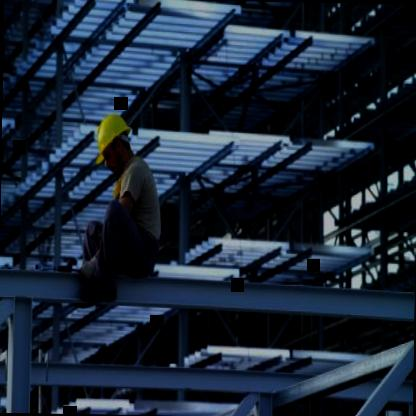helmet: (89, 106, 134, 172)
